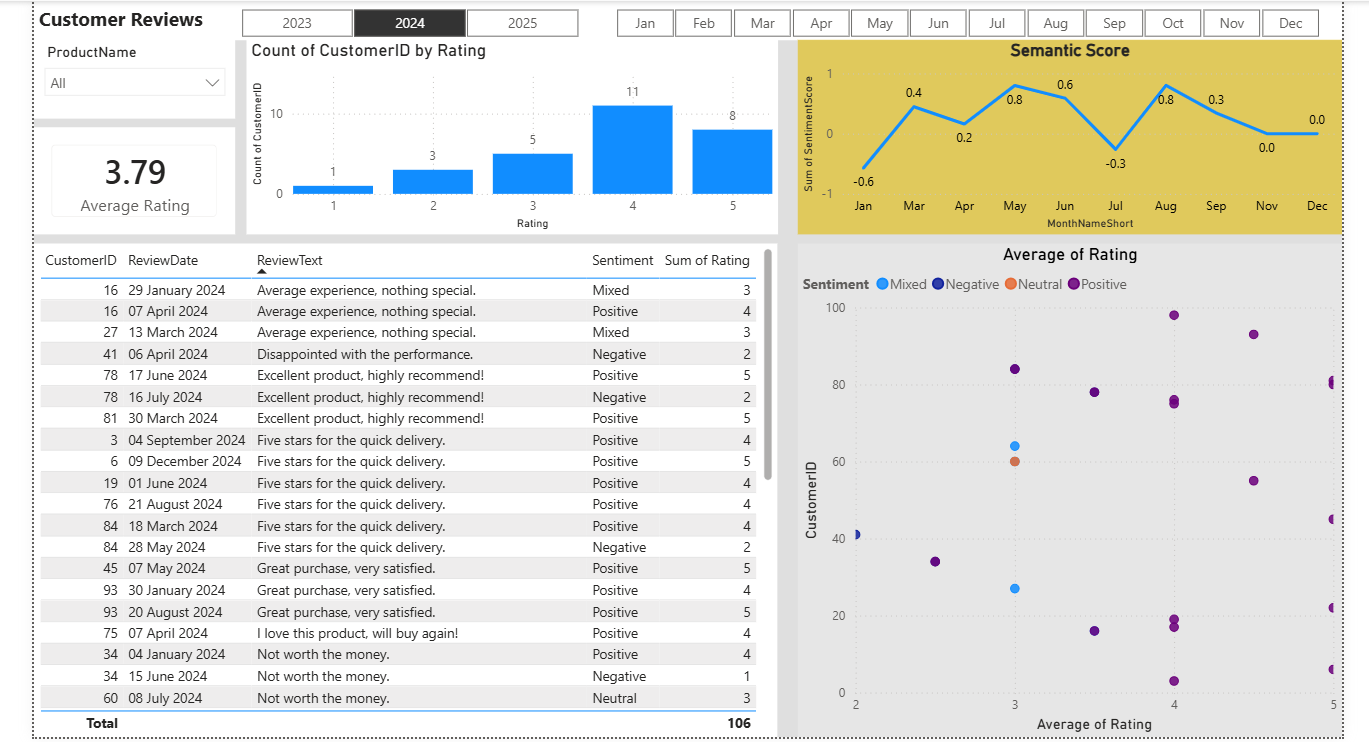

What the dashboard file says about the page in this screenshot:
{"tool":"powerbi","page":{"name":"Customer_Review","canvas":[1280,720],"ordinal":3},"visuals":[{"type":"textbox","box":[0,0,1280.3,38.4],"z":0},{"type":"slicer","fields":{"Values":["products.ProductName"]},"box":[0,36.7,196.9,78.3],"z":1000},{"type":"slicer","fields":{"Values":["Calendar.Year"]},"box":[177.1,1.2,378.9,37.1],"z":9000},{"type":"slicer","fields":{"Values":["Calendar.MonthNameShort"]},"box":[543.5,1.2,736.7,37.1],"z":10000},{"type":"cardVisual","fields":{"Data":["Calculations.Average Rating"]},"box":[0,123.5,196.9,105.2],"z":10001},{"type":"clusteredColumnChart","fields":{"Y":["CountNonNull(customer_reviews.CustomerID)"],"Category":["customer_reviews.Rating"]},"box":[207.9,37.9,519.7,190.8],"z":10002},{"type":"lineChart","title":"Semantic Score","fields":{"Y":["Sum(customer_reviews_sentiment (1).SentimentScore)"],"Category":["Calendar.MonthNameShort"]},"box":[747.2,37.9,533.2,190.8],"z":10003},{"type":"tableEx","fields":{"Values":["customer_reviews_sentiment (1).CustomerID","customer_reviews_sentiment (1).ReviewDate","customer_reviews.ReviewText","customer_reviews_sentiment (1).Sentiment","Sum(customer_reviews_sentiment (1).Rating)"]},"box":[0,237.2,727.6,483],"z":10004},{"type":"scatterChart","title":"Average of Rating ","fields":{"X":["Avg(customer_reviews.Rating)"],"Series":["customer_reviews_sentiment (1).Sentiment"],"Y":["customer_reviews.CustomerID"]},"box":[747.2,237.2,533.2,483],"z":10005}]}

Visuals, with their boxes on the page's 1280x720 design canvas (x1, y1, x2, y2). These are canvas units, not pixel positions in the 1369x742 screenshot, which may show the page scaled, cropped or inside an application window:
textbox: [left=0, top=0, right=1280, bottom=38]
slicer - products.ProductName: [left=0, top=37, right=197, bottom=115]
slicer - Calendar.Year: [left=177, top=1, right=556, bottom=38]
slicer - Calendar.MonthNameShort: [left=544, top=1, right=1280, bottom=38]
cardVisual - Calculations.Average Rating: [left=0, top=124, right=197, bottom=229]
clusteredColumnChart - CountNonNull(customer_reviews.CustomerID) x customer_reviews.Rating: [left=208, top=38, right=728, bottom=229]
"Semantic Score" lineChart: [left=747, top=38, right=1280, bottom=229]
tableEx - customer_reviews_sentiment (1).CustomerID x customer_reviews_sentiment (1).ReviewDate: [left=0, top=237, right=728, bottom=720]
"Average of Rating " scatterChart: [left=747, top=237, right=1280, bottom=720]
